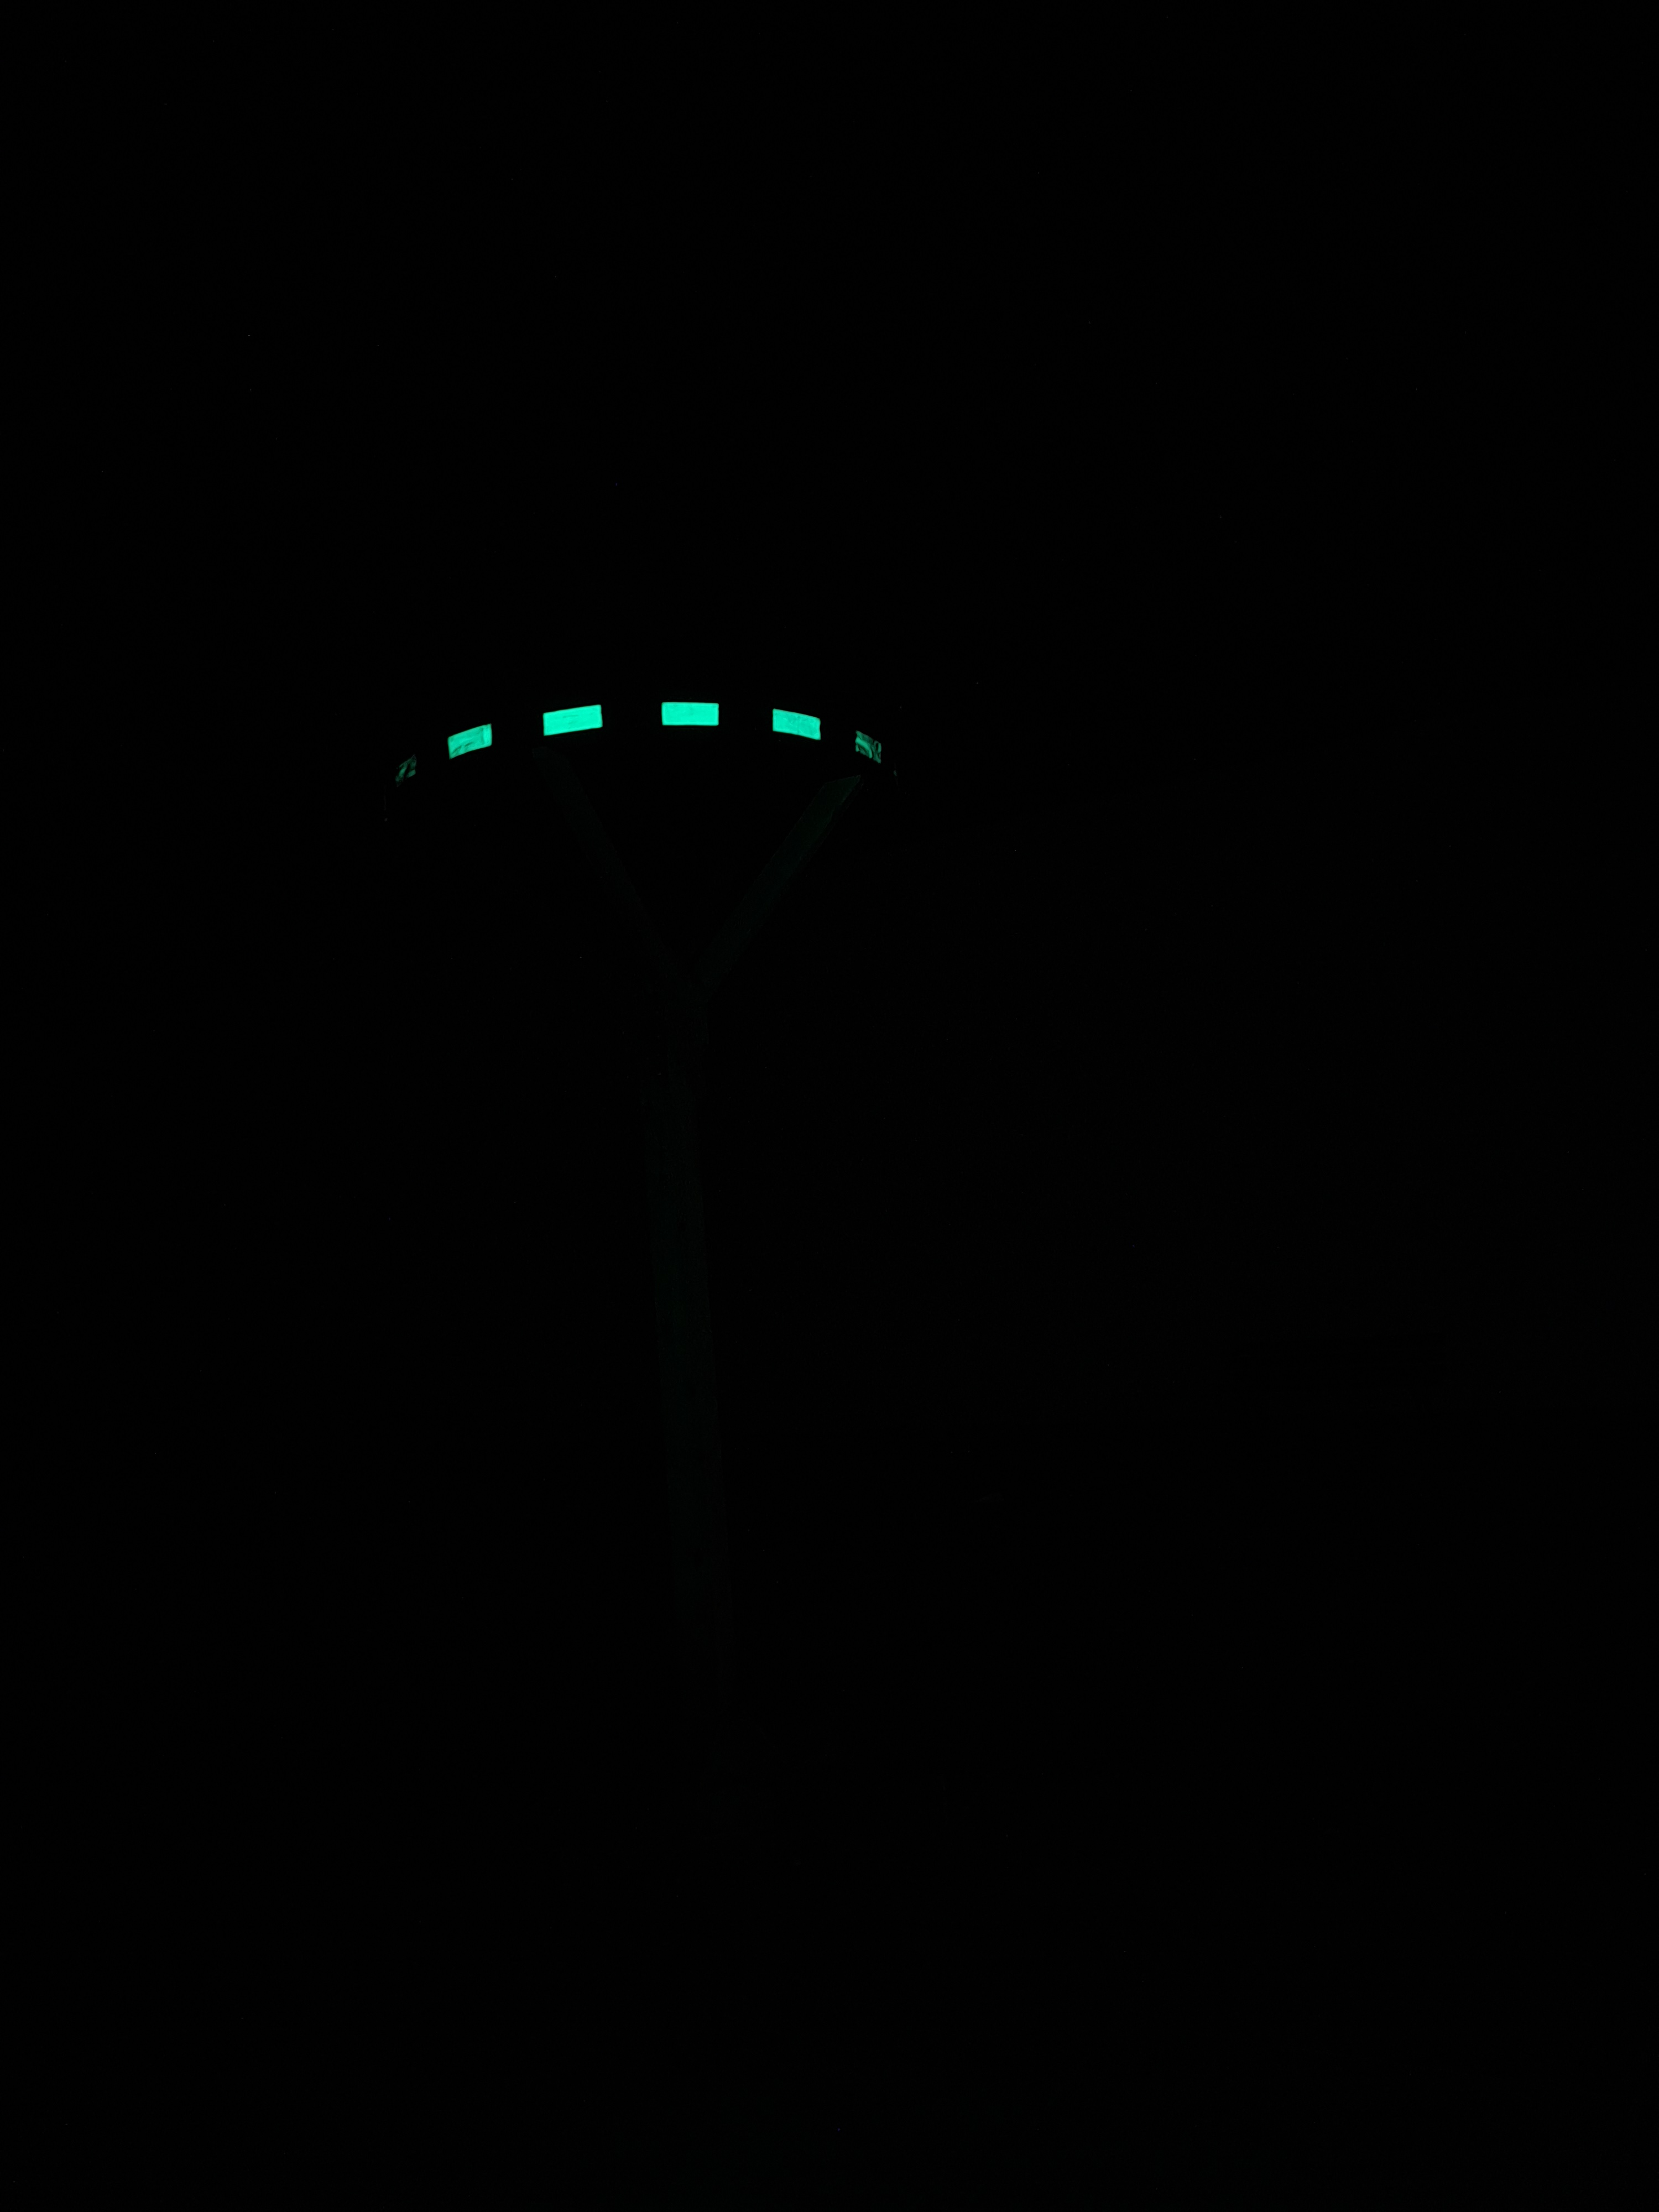hoop: (380, 702, 885, 786)
